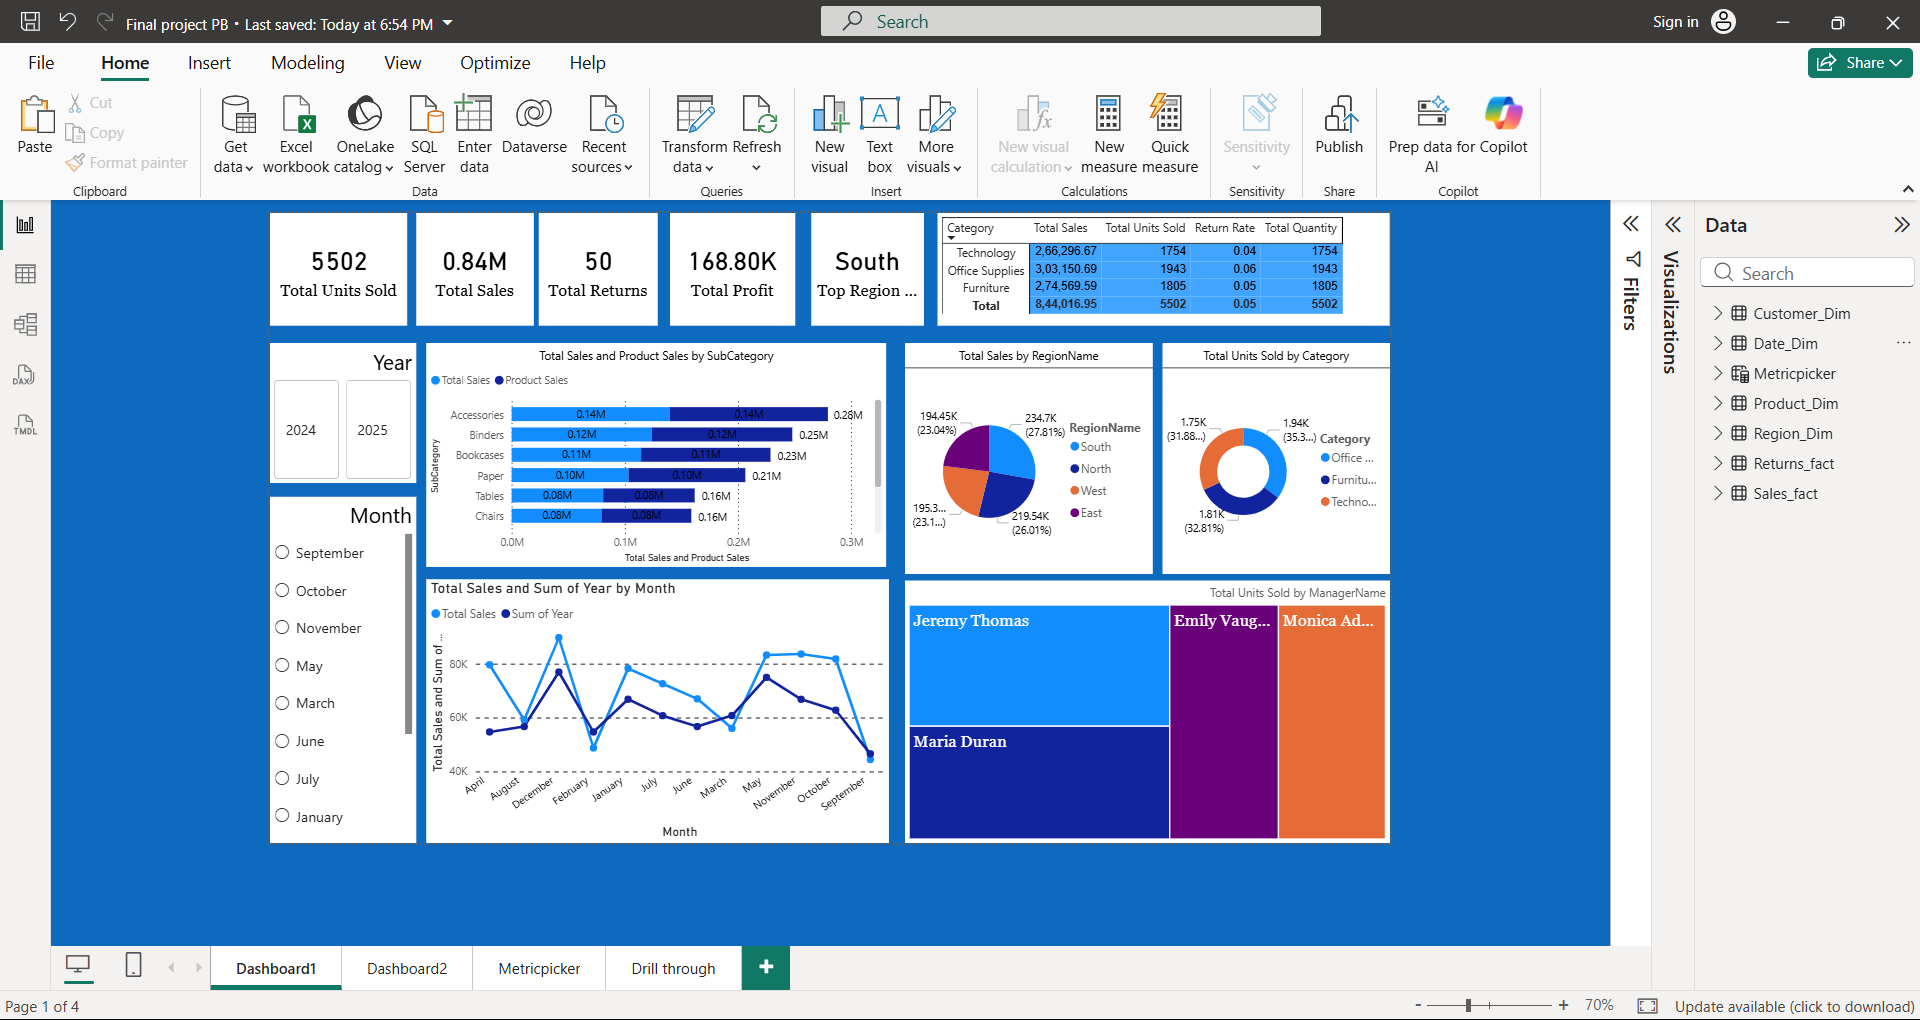

The dashboard page shown, as its layout file describes it:
{"tool":"powerbi","page":{"name":"Dashboard1","canvas":[1280,720],"ordinal":0},"visuals":[{"type":"card","fields":{"Values":["Customer_Dim.Total Units Sold"]},"box":[0,0,157.1,128.6],"z":0},{"type":"card","fields":{"Values":["Customer_Dim.Total Sales"]},"box":[167.1,0,134.3,128.6],"z":1000},{"type":"card","fields":{"Values":["Customer_Dim.Total Returns"]},"box":[307.1,0,135.7,128.6],"z":2000},{"type":"card","fields":{"Values":["Customer_Dim.Total Profit"]},"box":[457.1,0,142.9,128.6],"z":3000},{"type":"card","fields":{"Values":["Customer_Dim.Top Region Name"]},"box":[618.6,0,128.6,128.6],"z":4000},{"type":"advancedSlicerVisual","fields":{"Values":["Date_Dim.Year"]},"box":[0,148.6,167.1,160],"z":5000},{"type":"listSlicer","fields":{"Values":["Date_Dim.Month"]},"box":[0,324.3,167.1,395.7],"z":6000},{"type":"barChart","fields":{"Category":["Product_Dim.SubCategory"],"Y":["Customer_Dim.Total Sales","Customer_Dim.Product Sales"]},"box":[178.6,148.6,525.7,255.7],"z":7000},{"type":"lineChart","fields":{"Y":["Customer_Dim.Total Sales","Sum(Date_Dim.Year)"],"Category":["Date_Dim.Year Hierarchy.Year","Date_Dim.Year Hierarchy.Month","Date_Dim.Year Hierarchy.Quarter","Date_Dim.Year Hierarchy.Date"]},"box":[178.6,418.6,528.6,301.4],"z":8000},{"type":"donutChart","fields":{"Category":["Product_Dim.Category"],"Y":["Customer_Dim.Total Units Sold"]},"box":[1020,148.6,260,264.3],"z":9000},{"type":"treemap","fields":{"Group":["Region_Dim.ManagerName"],"Values":["Customer_Dim.Total Units Sold"]},"box":[725.7,420,554.3,300],"z":10000},{"type":"pieChart","fields":{"Category":["Region_Dim.RegionName"],"Y":["Customer_Dim.Total Sales"]},"box":[725.7,148.6,282.9,264.3],"z":11000},{"type":"pivotTable","fields":{"Rows":["Product_Dim.Category"],"Values":["Customer_Dim.Total Sales","Customer_Dim.Total Units Sold","Customer_Dim.Return Rate","Customer_Dim.Total Quantity"]},"box":[762.9,0,517.1,128.6],"z":13000}]}

Visuals, with their boxes on the page's 1280x720 design canvas (x1, y1, x2, y2). These are canvas units, not pixel positions in the 1920x1020 screenshot, which may show the page scaled, cropped or inside an application window:
card - Customer_Dim.Total Units Sold: x1=0, y1=0, x2=157, y2=129
card - Customer_Dim.Total Sales: x1=167, y1=0, x2=301, y2=129
card - Customer_Dim.Total Returns: x1=307, y1=0, x2=443, y2=129
card - Customer_Dim.Total Profit: x1=457, y1=0, x2=600, y2=129
card - Customer_Dim.Top Region Name: x1=619, y1=0, x2=747, y2=129
advancedSlicerVisual - Date_Dim.Year: x1=0, y1=149, x2=167, y2=309
listSlicer - Date_Dim.Month: x1=0, y1=324, x2=167, y2=720
barChart - Product_Dim.SubCategory x Customer_Dim.Total Sales: x1=179, y1=149, x2=704, y2=404
lineChart - Customer_Dim.Total Sales x Sum(Date_Dim.Year): x1=179, y1=419, x2=707, y2=720
donutChart - Product_Dim.Category x Customer_Dim.Total Units Sold: x1=1020, y1=149, x2=1280, y2=413
treemap - Region_Dim.ManagerName x Customer_Dim.Total Units Sold: x1=726, y1=420, x2=1280, y2=720
pieChart - Region_Dim.RegionName x Customer_Dim.Total Sales: x1=726, y1=149, x2=1009, y2=413
pivotTable - Product_Dim.Category x Customer_Dim.Total Sales: x1=763, y1=0, x2=1280, y2=129
